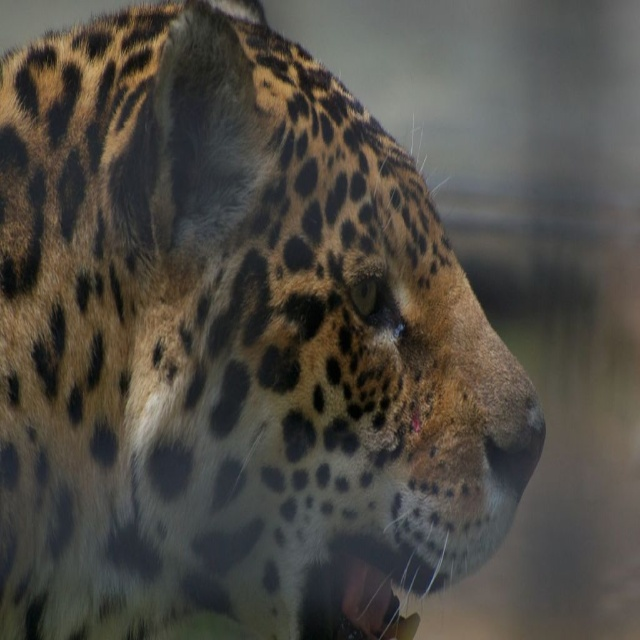Jaguar: (0, 0, 546, 640)
